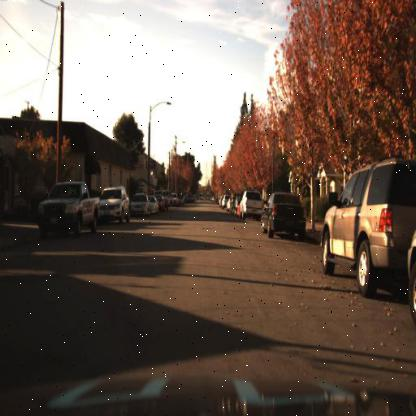car: (320, 156, 415, 302), (34, 178, 100, 243), (259, 187, 307, 240), (260, 194, 308, 244), (100, 186, 132, 226), (237, 189, 265, 221), (129, 192, 149, 217), (145, 194, 161, 218)
